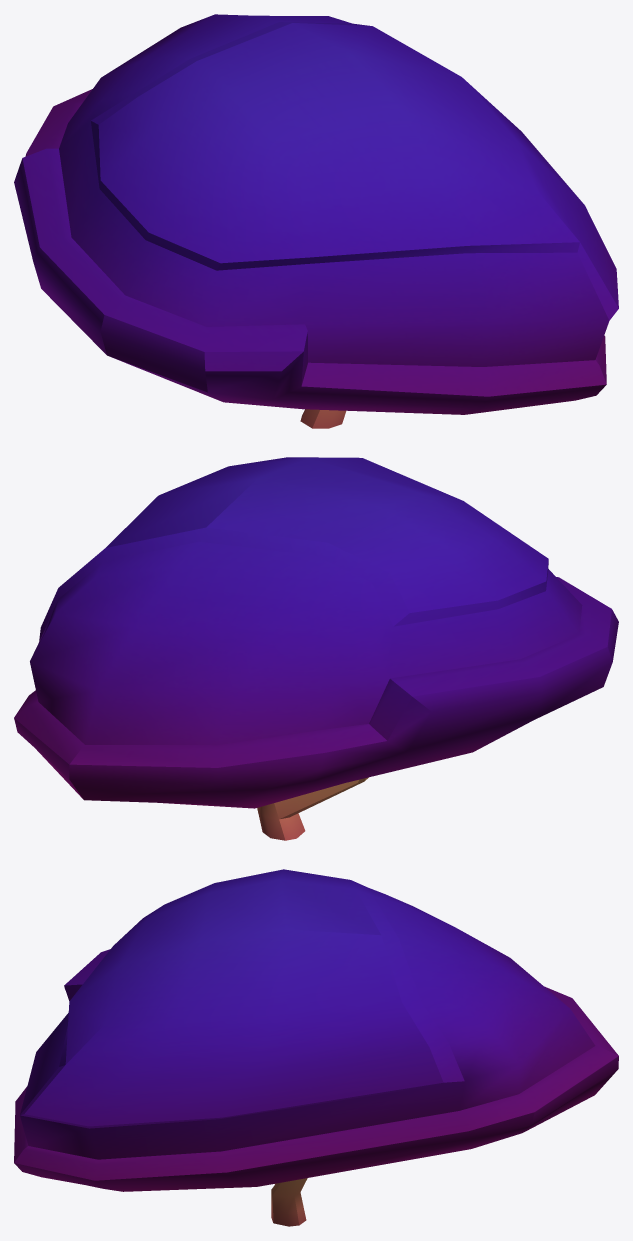
The model's file is Edge_Tree_1.fbx.
The picture shows the model from 3 angles, top to bottom: view 1: azimuth 30°, elevation 25°; view 2: azimuth 150°, elevation 25°; view 3: azimuth 270°, elevation 25°; orthographic projection. The views are drawn at different scales.
Parts seen in each view (by area): view 1: Edge_Tree_v1; view 2: Edge_Tree_v1; view 3: Edge_Tree_v1.
Boxes of the visible parts, bbox=[...] form: Edge_Tree_v1: bbox=[14, 14, 618, 428]; Edge_Tree_v1: bbox=[14, 457, 618, 840]; Edge_Tree_v1: bbox=[14, 869, 618, 1226].
Bounding box in the file's own units: 185 × 135 × 246.
